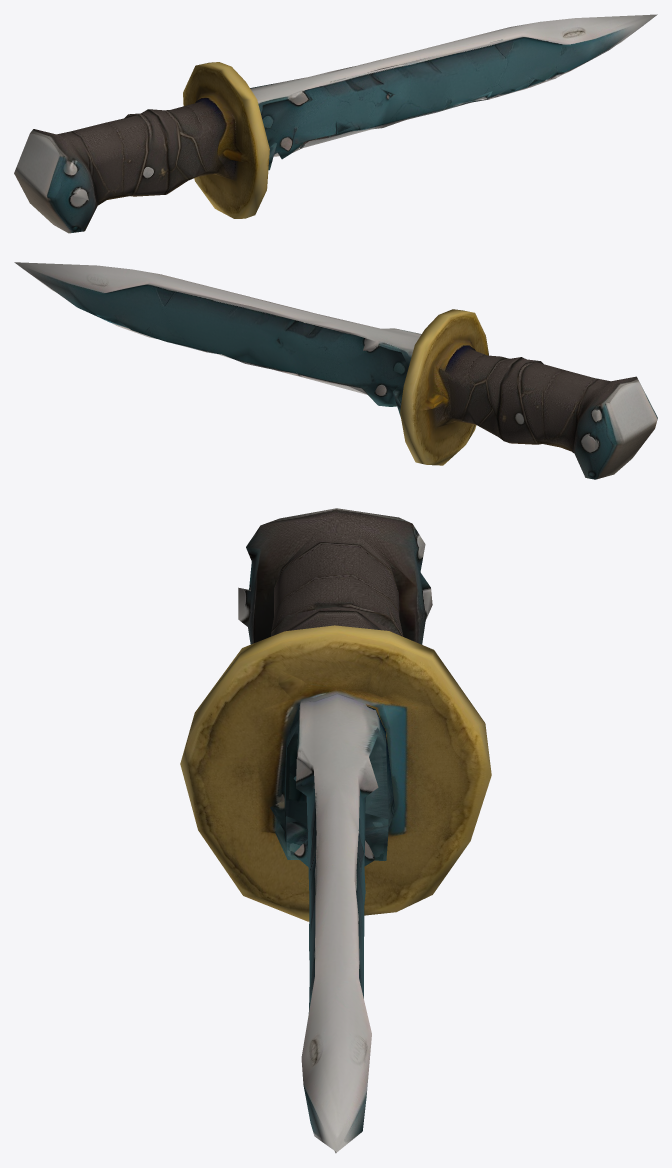
File: weapon_dagger_1500.glb
3 views of the same model, one above another, from view 1: azimuth 30°, elevation 25°; view 2: azimuth 150°, elevation 25°; view 3: azimuth 270°, elevation 25° (orthographic). The views are drawn at different scales.
Parts seen in each view (by area): view 1: tripo_node_9721a2af-9ca8-4059-a51e-60c54154127c; view 2: tripo_node_9721a2af-9ca8-4059-a51e-60c54154127c; view 3: tripo_node_9721a2af-9ca8-4059-a51e-60c54154127c.
Boxes of the visible parts, x1=… form: tripo_node_9721a2af-9ca8-4059-a51e-60c54154127c: x1=14, y1=14, x2=657, y2=233; tripo_node_9721a2af-9ca8-4059-a51e-60c54154127c: x1=14, y1=262, x2=657, y2=479; tripo_node_9721a2af-9ca8-4059-a51e-60c54154127c: x1=180, y1=508, x2=491, y2=1153.
Size of the model in its own units: 0.99 by 0.2177 by 0.2128.
1 material, 1 textured.
